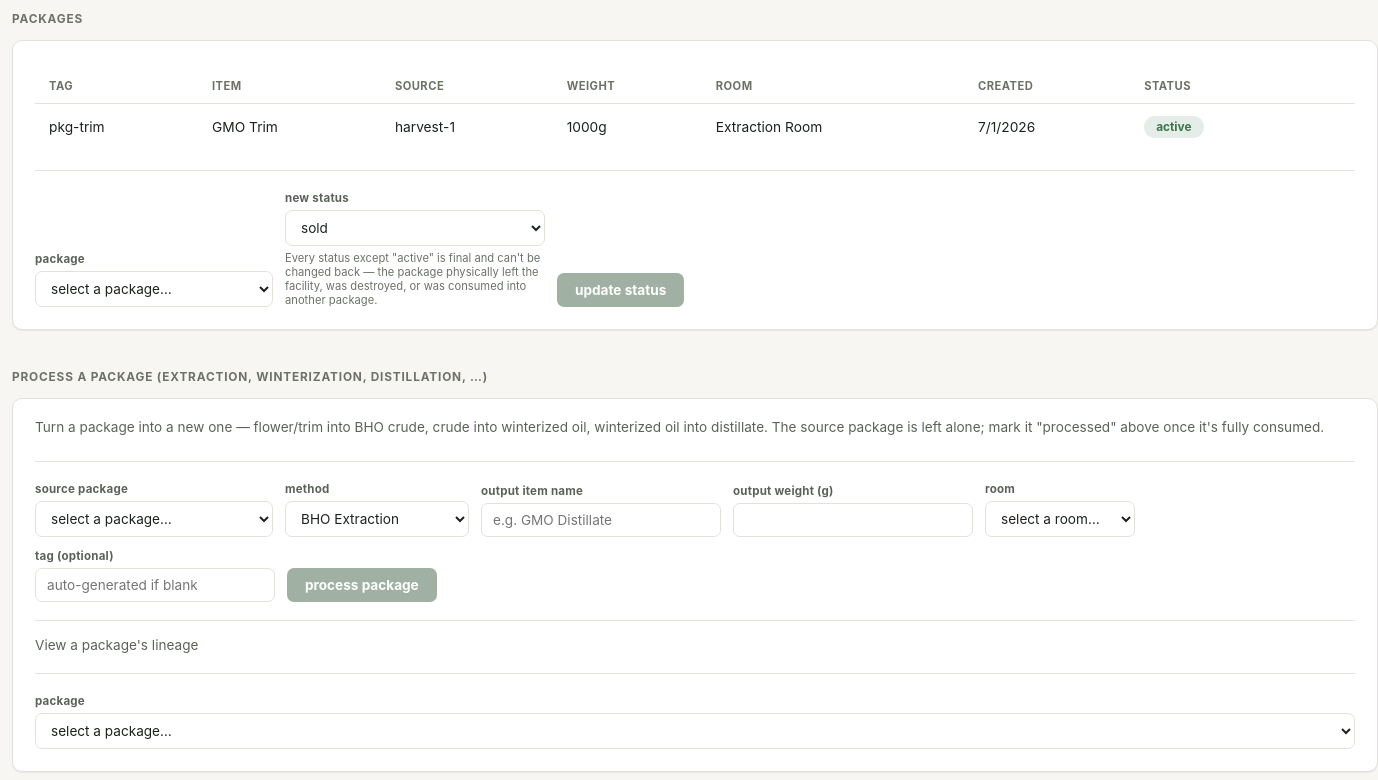
Test: PackagesSection › processes a package into a new derivative with a computed yield preview
The image size is (1378, 780).
Select "GMO Trim — pkg-trim (active)" in the dropdown labelled "source package": x=154, y=519 [35, 501, 273, 537]
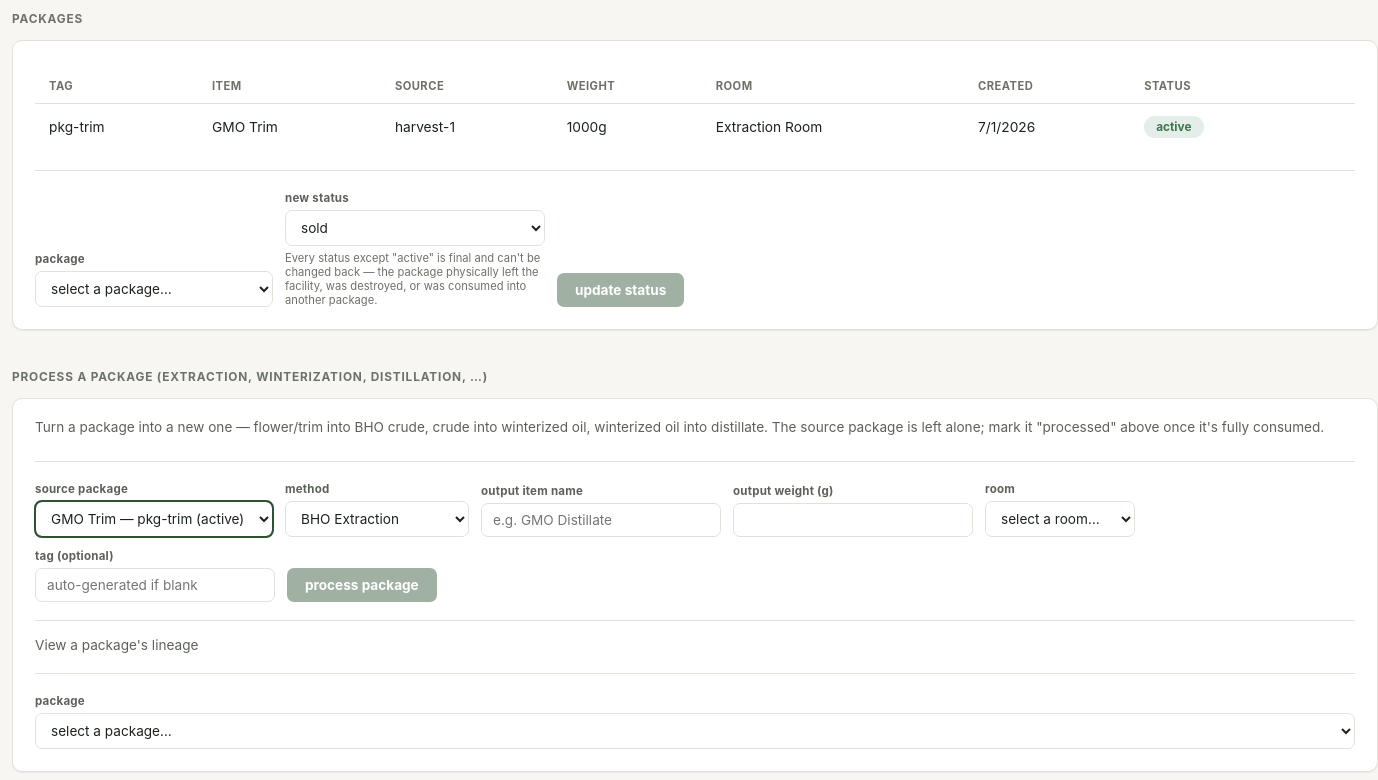
In the field with placeholder "e.g. GMO Distillate": x=601, y=520 [481, 503, 721, 537], type "GMO BHO Crude"
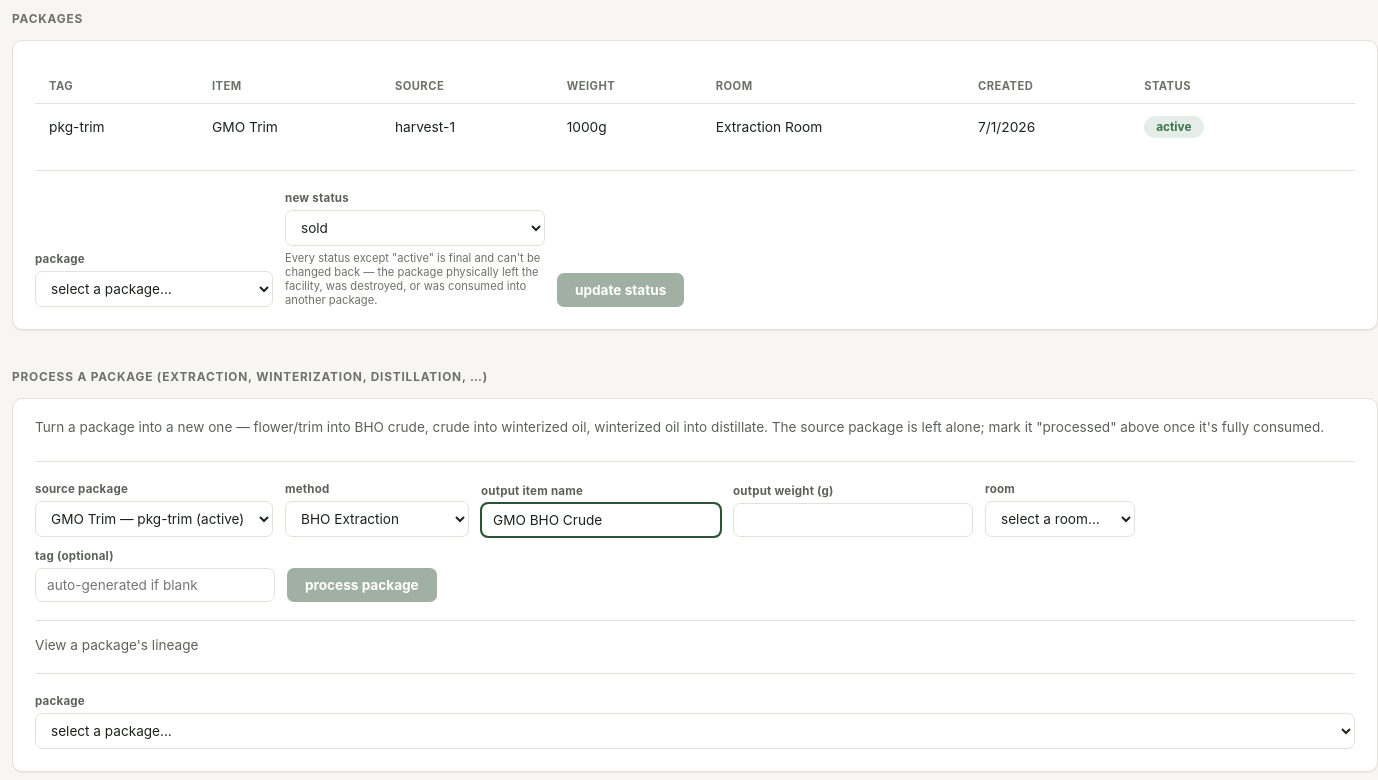
In the number field labelled "output weight (g)": x=853, y=520 [733, 503, 973, 537], type "150"
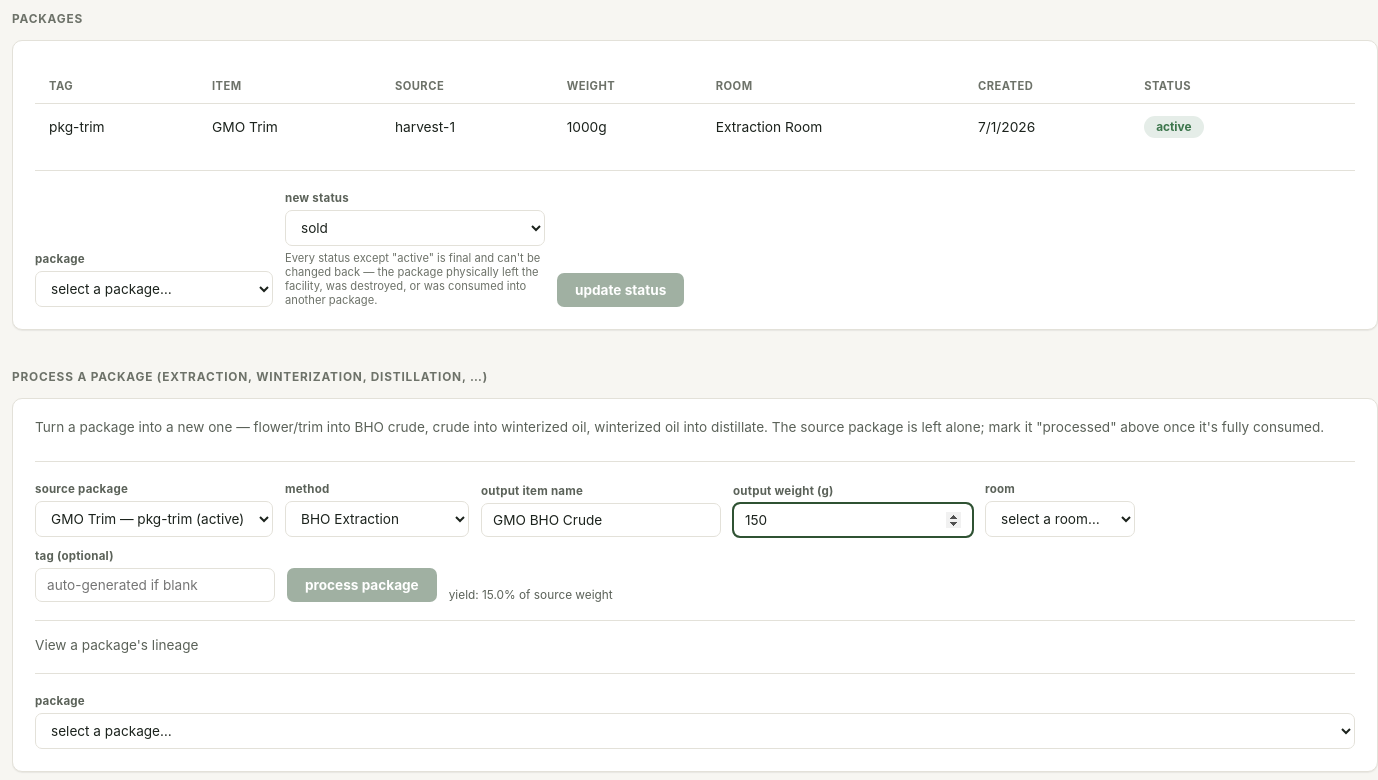
Result: the text "yield: 15.0% of source weight" is shown at [449, 588, 613, 602]
